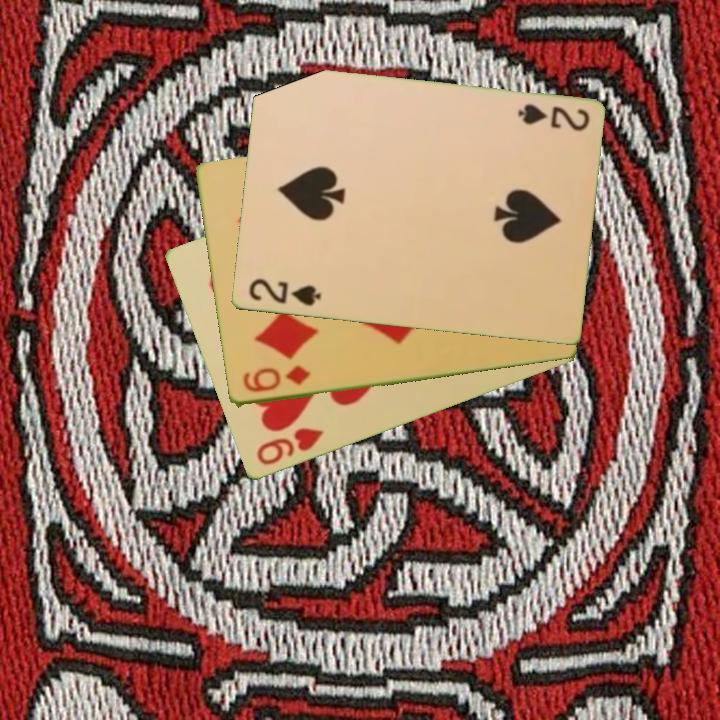2s: (245, 275, 323, 310), (513, 101, 592, 135)
6d: (239, 362, 313, 396)
9h: (252, 424, 326, 469)
